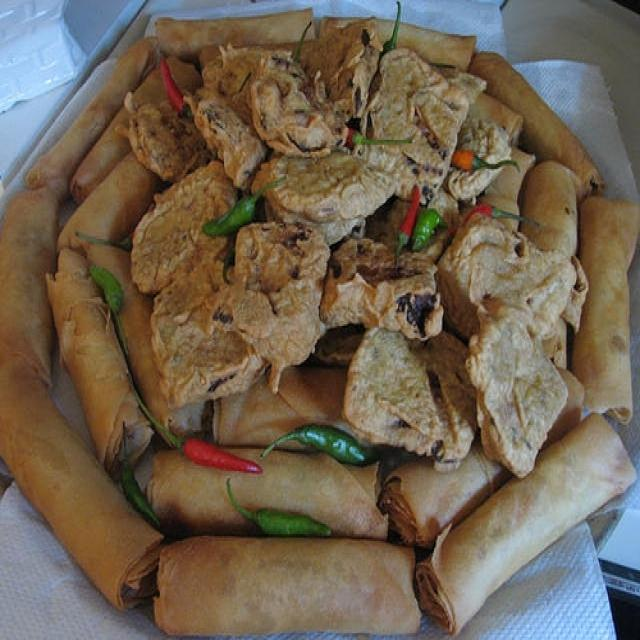炸货点心: (4, 7, 617, 621)
